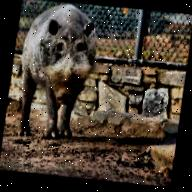boar: (4, 0, 129, 147)
